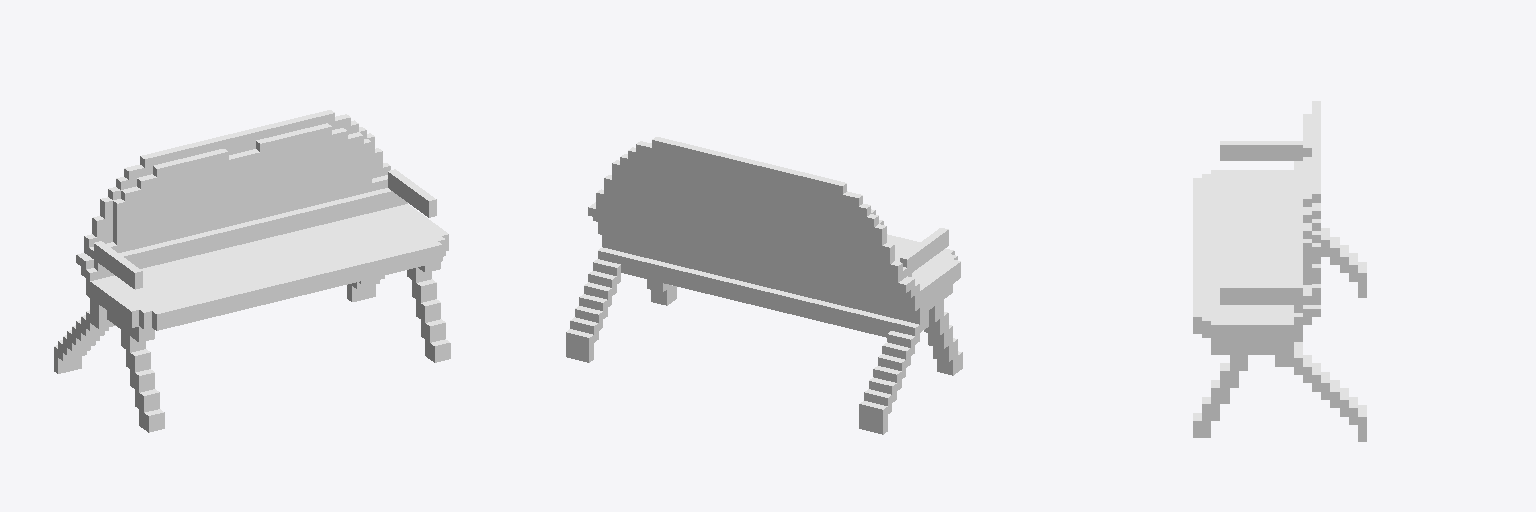
Rendered from OfficeBench.obj.
3 views of the same model, side by side, from view 1: azimuth 30°, elevation 25°; view 2: azimuth 150°, elevation 25°; view 3: azimuth 270°, elevation 25° (orthographic).
Visible parts, largest first — view 1: object 1; view 2: object 1; view 3: object 1.
Part boxes in pixels (x1,y1,x2,y2): object 1: (54,110,450,432); object 1: (566,137,962,434); object 1: (1193,101,1366,441).
Bounding box in the file's own units: 4 × 2.6 × 1.9.